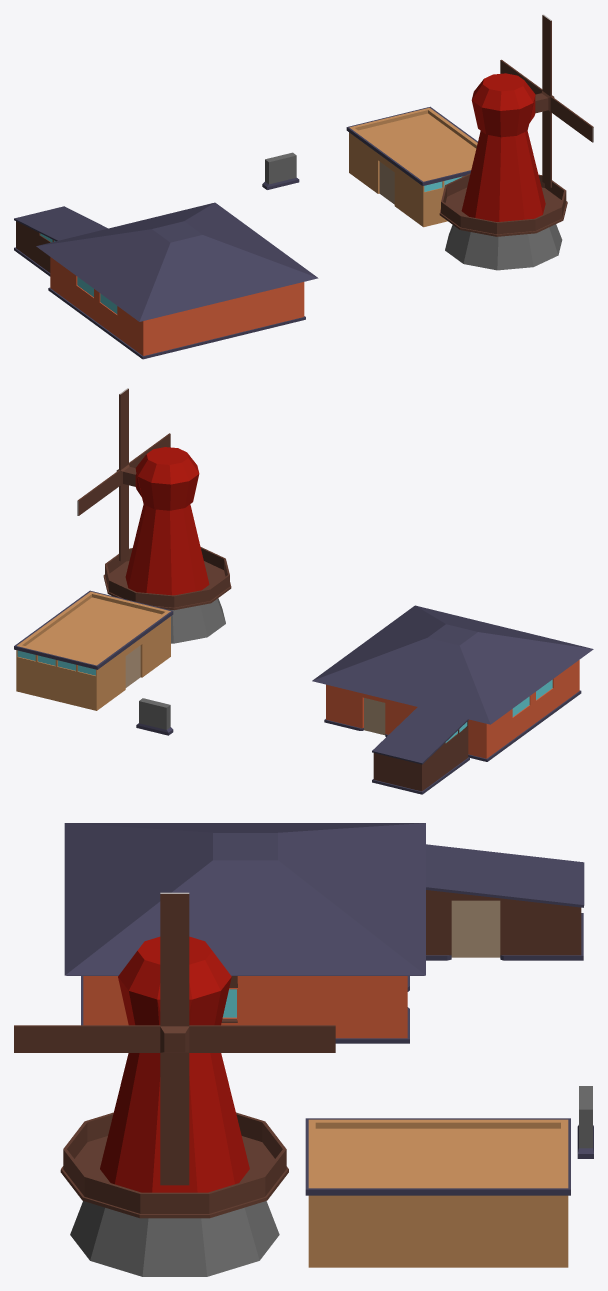
File: Puisto_MiniGolf_PääRakennus.fbx
The picture shows the model from 3 angles, top to bottom: view 1: azimuth 30°, elevation 25°; view 2: azimuth 150°, elevation 25°; view 3: azimuth 270°, elevation 25°; orthographic projection. The views are drawn at different scales.
Visible parts, largest first — view 1: Plane; view 2: Plane; view 3: Plane.
Boxes of the visible parts, x1=… form: Plane: x1=14, y1=14, x2=593, y2=359; Plane: x1=14, y1=388, x2=593, y2=794; Plane: x1=14, y1=823, x2=593, y2=1276.
Size of the model in its own units: 2793 by 1287 by 1788.
